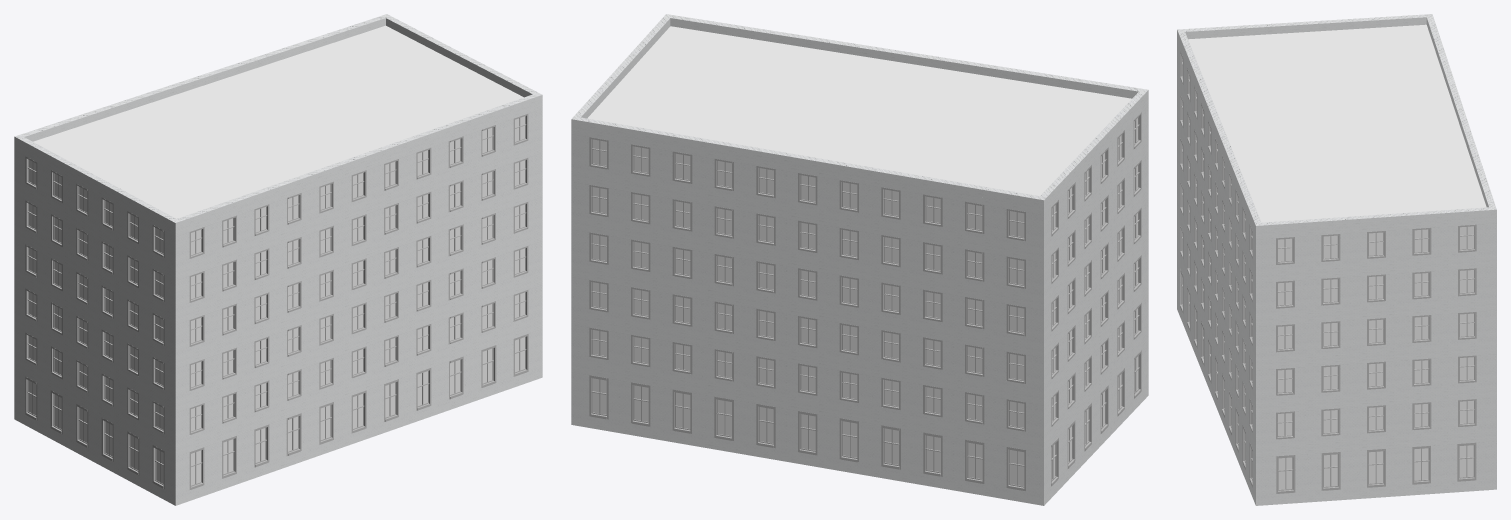
Rendered from clohc617903np4p02a9ecrru8_0.glb.
3 renders of one model, left to right at view 1: azimuth 30°, elevation 25°; view 2: azimuth 150°, elevation 25°; view 3: azimuth 270°, elevation 25°, orthographic. The views are drawn at different scales.
Visible parts, largest first — view 1: mesh_Brick, mesh_CityEnginePBRShader, mesh_Rim, mesh_Glass; view 2: mesh_Brick, mesh_CityEnginePBRShader, mesh_Rim, mesh_Glass; view 3: mesh_Brick, mesh_CityEnginePBRShader, mesh_Rim, mesh_Glass.
Part boxes in pixels (<box>): mesh_Brick: <box>14,14,542,505</box>; mesh_CityEnginePBRShader: <box>33,25,523,218</box>; mesh_Rim: <box>25,114,528,489</box>; mesh_Glass: <box>28,116,524,485</box>; mesh_Brick: <box>571,14,1148,505</box>; mesh_CityEnginePBRShader: <box>587,26,1131,195</box>; mesh_Rim: <box>589,112,1141,490</box>; mesh_Glass: <box>592,118,1138,486</box>; mesh_Brick: <box>1177,14,1496,505</box>; mesh_CityEnginePBRShader: <box>1188,24,1486,222</box>; mesh_Rim: <box>1180,52,1476,493</box>; mesh_Glass: <box>1203,111,1473,489</box>.
Size of the model in its own units: 36.61 by 22.55 by 23.33.
4 materials, 1 textured.
